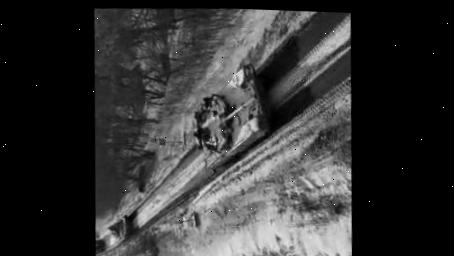tank: (189, 57, 275, 172), (110, 212, 133, 241)
